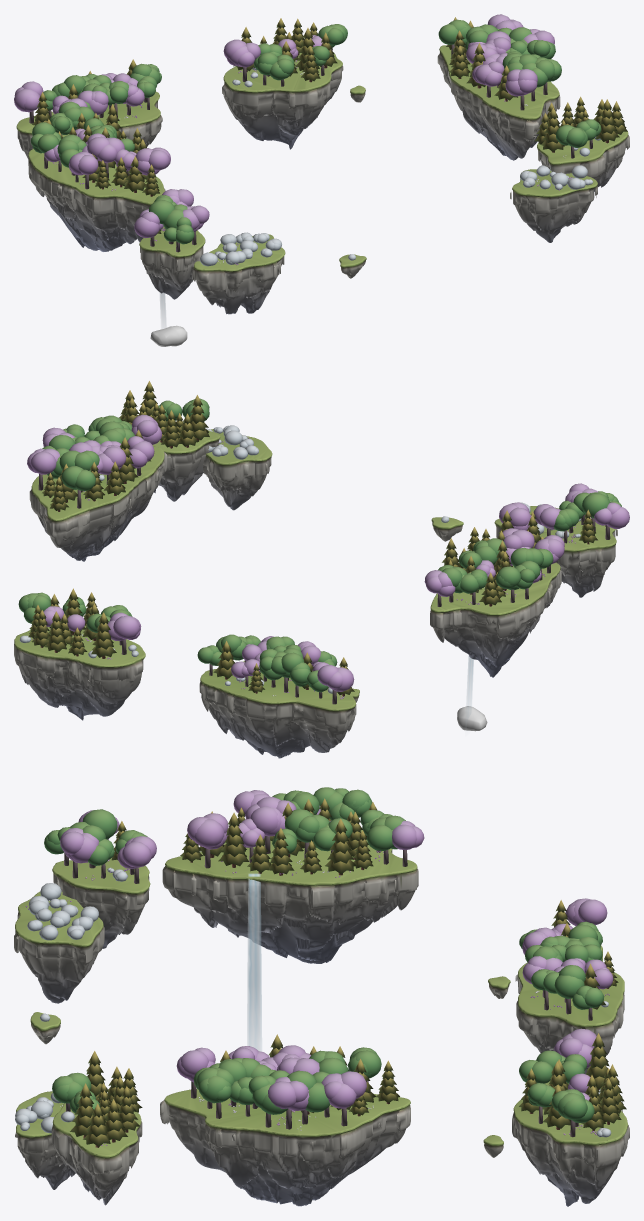
File: beacon.glb
The picture shows the model from 3 angles, top to bottom: view 1: azimuth 30°, elevation 25°; view 2: azimuth 150°, elevation 25°; view 3: azimuth 270°, elevation 25°; orthographic projection. The views are drawn at different scales.
Parts seen in each view (by area): view 1: decor_leaves, decor_m06, decor_m01, decor_m07, decor_m03, decor_m04, decor_m04.001, decor_m03.001, decor_m00, decor_trunks, clouds; view 2: decor_leaves, decor_m00, decor_m01, decor_m06, decor_m07, decor_m04, decor_m04.001, decor_m03.001, decor_trunks, clouds, decor_s00; view 3: decor_leaves, decor_m06, decor_m07, decor_m01, decor_m03, decor_m00, decor_m04.001, decor_m03.001, decor_m04, decor_trunks, waterfall, decor_s00.
Part boxes in pixels (<box>): decor_leaves: <box>14,14,627,266</box>; decor_m06: <box>28,134,165,251</box>; decor_m01: <box>222,52,343,149</box>; decor_m07: <box>437,45,560,160</box>; decor_m03: <box>192,234,285,314</box>; decor_m04: <box>510,169,597,242</box>; decor_m04.001: <box>139,226,205,299</box>; decor_m03.001: <box>537,131,629,191</box>; decor_m00: <box>16,91,162,158</box>; decor_trunks: <box>29,44,617,252</box>; clouds: <box>150,325,187,346</box>; decor_leaves: <box>18,381,629,695</box>; decor_m00: <box>199,661,356,758</box>; decor_m01: <box>14,626,145,720</box>; decor_m06: <box>430,536,561,677</box>; decor_m07: <box>29,446,167,561</box>; decor_m04: <box>203,429,272,510</box>; decor_m04.001: <box>539,521,617,597</box>; decor_m03.001: <box>152,430,220,501</box>; decor_trunks: <box>38,438,610,704</box>; clouds: <box>457,706,487,731</box>; decor_s00: <box>431,517,463,541</box>; decor_leaves: <box>15,787,626,1146</box>; decor_m06: <box>162,830,418,963</box>; decor_m07: <box>160,1088,410,1206</box>; decor_m01: <box>512,1081,629,1206</box>; decor_m03: <box>14,891,104,1003</box>; decor_m00: <box>515,945,624,1074</box>; decor_m04.001: <box>52,858,150,948</box>; decor_m03.001: <box>51,1103,142,1205</box>; decor_m04: <box>15,1091,75,1189</box>; decor_trunks: <box>64,836,609,1147</box>; waterfall: <box>247,873,261,1051</box>; decor_s00: <box>30,1012,60,1044</box>.
Size of the model in its own units: 35.19 by 15.03 by 29.49.
